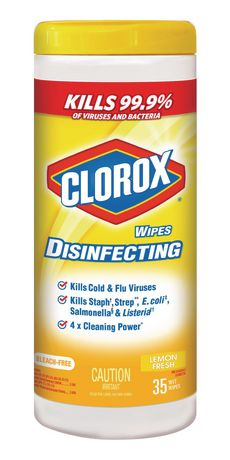Wipes: (27, 15, 202, 443)
